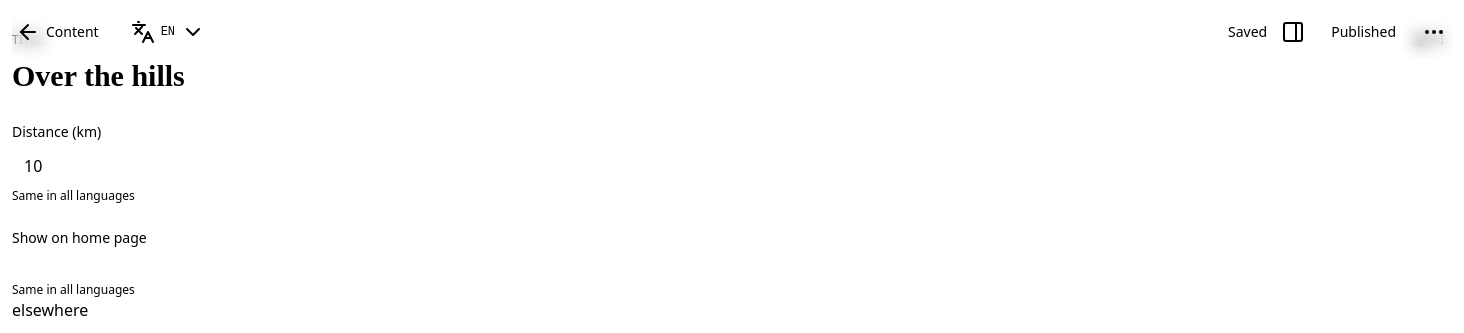
Test: keeps the AI item disabled while there are unsaved changes
The image size is (1464, 333).
Step 1. Type "!" into the field showing "Over the hills" → (732, 78), box [12,58,1452,98]
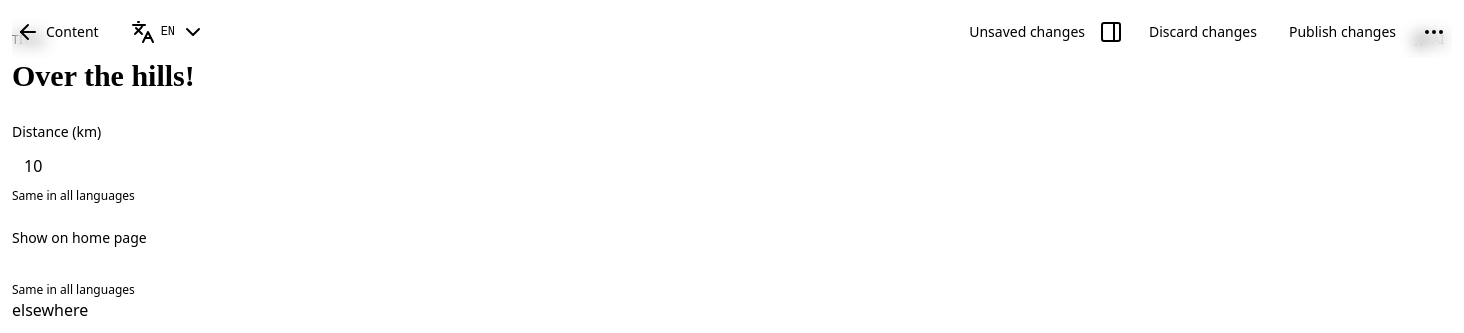
Step 2. Click the button with aria-label "Language: English" → (168, 32), box [119,16,217,48]
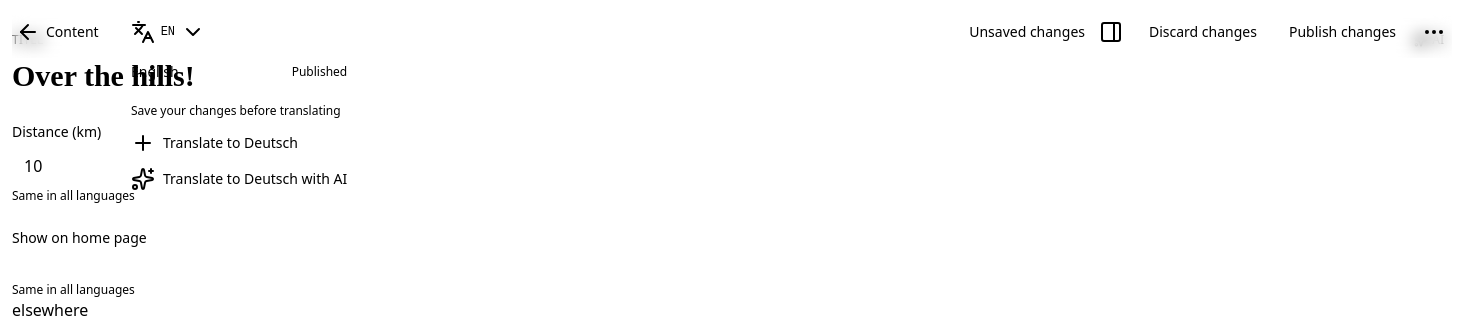
Expected: the text "Save your changes before translating" is shown, [123,97,355,125]
